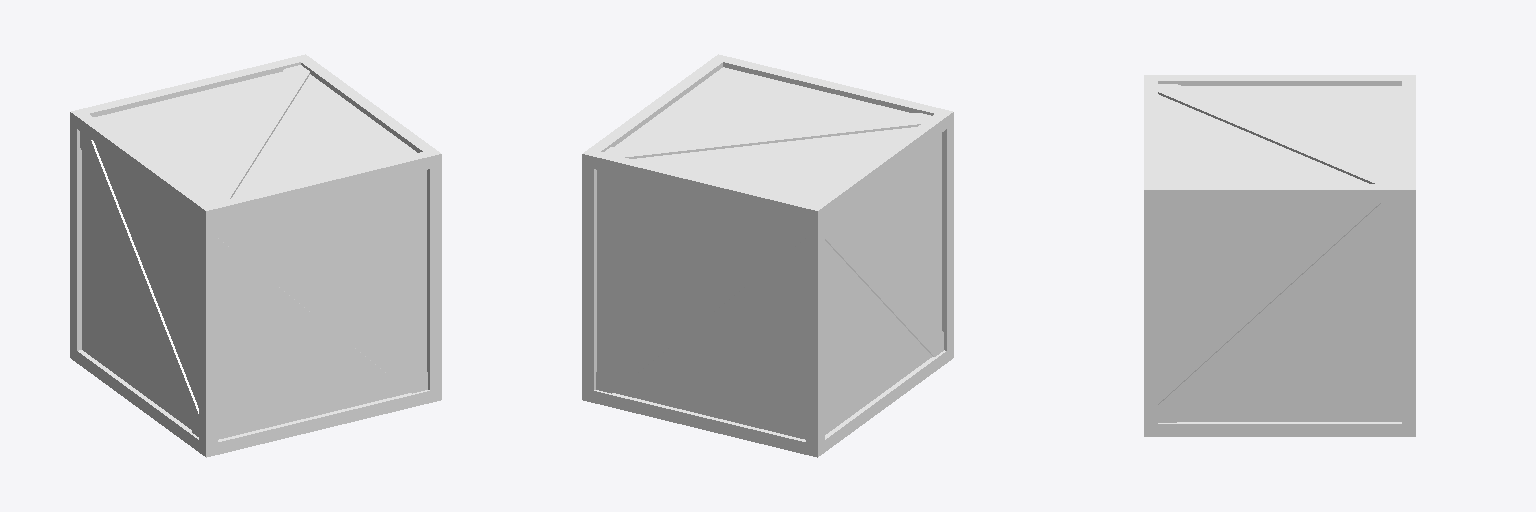
The model's file is crate.obj.
3 views of the same model, side by side, from view 1: azimuth 30°, elevation 25°; view 2: azimuth 150°, elevation 25°; view 3: azimuth 270°, elevation 25° (orthographic).
Parts seen in each view (by area): view 1: Wood_Oakgrtrt; view 2: Wood_Oakgrtrt; view 3: Wood_Oakgrtrt.
Boxes of the visible parts, box(x1,y1,x2,y2) form: Wood_Oakgrtrt: box(70, 54, 441, 457); Wood_Oakgrtrt: box(582, 54, 953, 457); Wood_Oakgrtrt: box(1144, 75, 1415, 436).
Bounding box in the file's own units: 1 × 1 × 1.